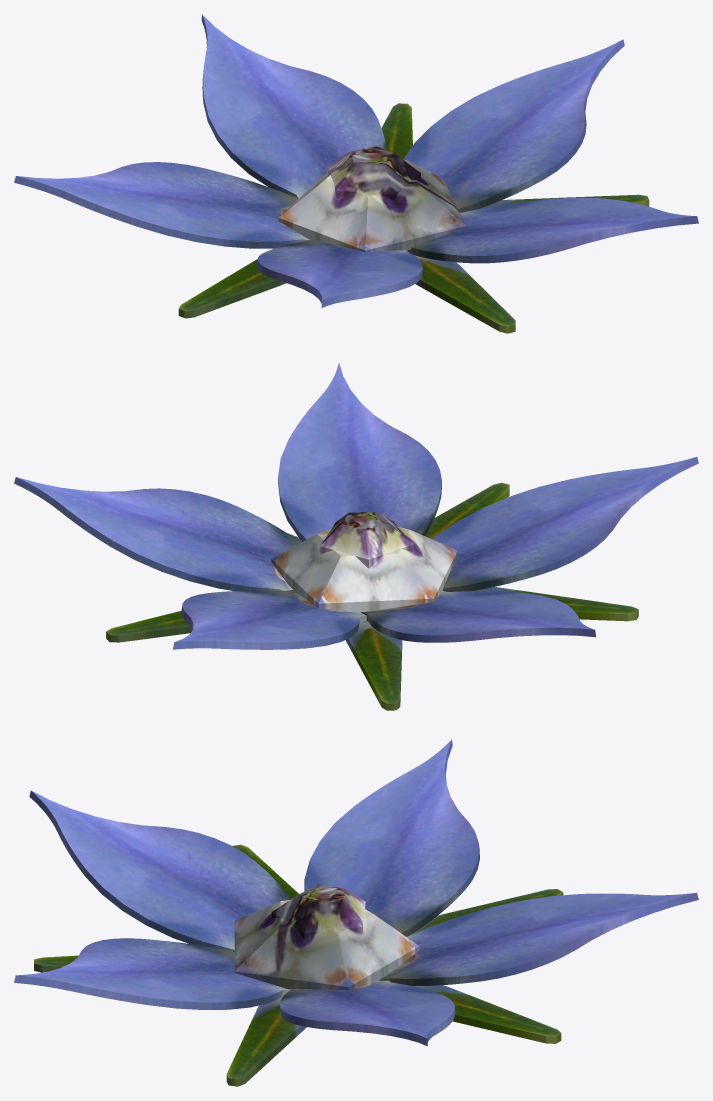
File: Borage.fbx
3 views of the same model, one above another, from view 1: azimuth 30°, elevation 25°; view 2: azimuth 150°, elevation 25°; view 3: azimuth 270°, elevation 25° (orthographic). The views are drawn at different scales.
Visible parts, largest first — view 1: OuterShell; view 2: OuterShell; view 3: OuterShell.
Boxes of the visible parts, x1=… form: OuterShell: x1=14, y1=14, x2=698, y2=333; OuterShell: x1=14, y1=363, x2=698, y2=710; OuterShell: x1=14, y1=739, x2=698, y2=1086.
Bounding box in the file's own units: 21.18 × 3.03 × 20.37.
